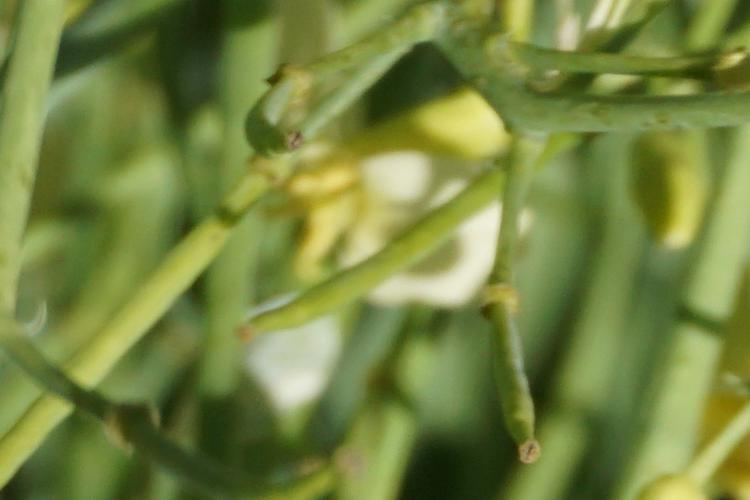pod: (470, 270, 554, 475), (224, 260, 407, 354)
